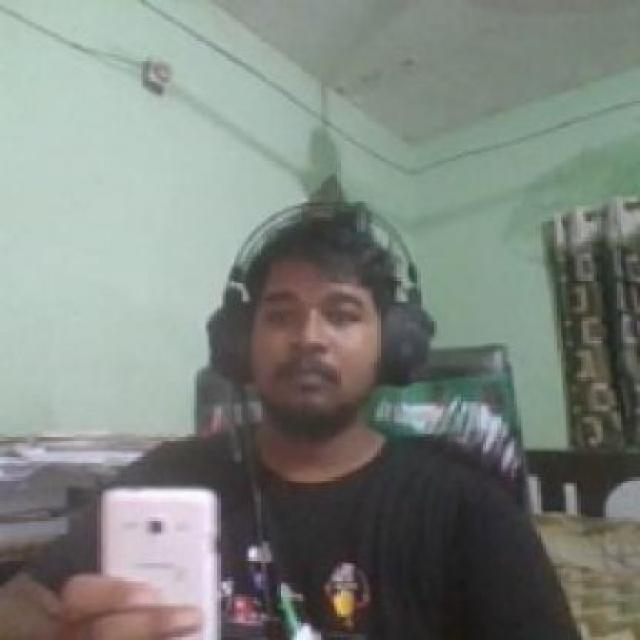Phone: (100, 486, 221, 640)
